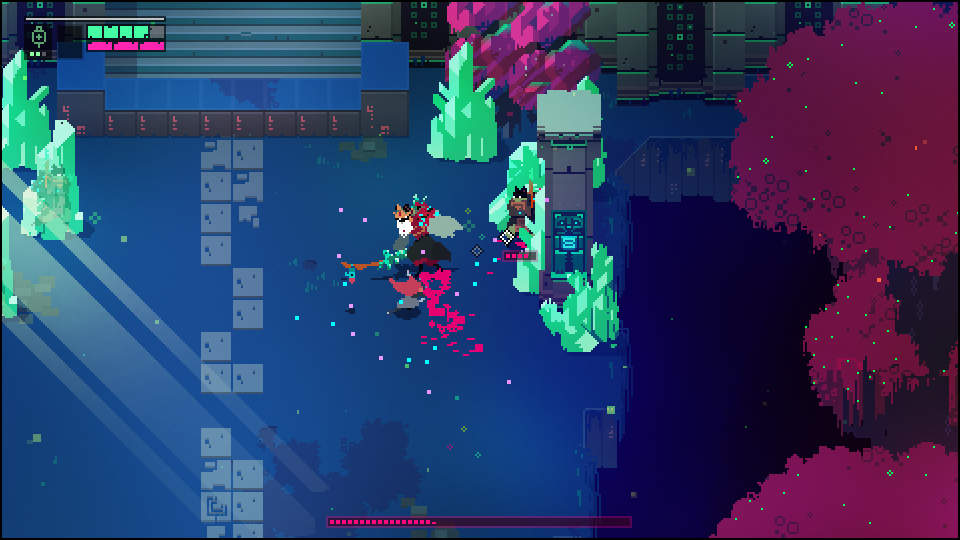hanged_man: (371, 189, 465, 285)
player: (386, 273, 439, 325)
